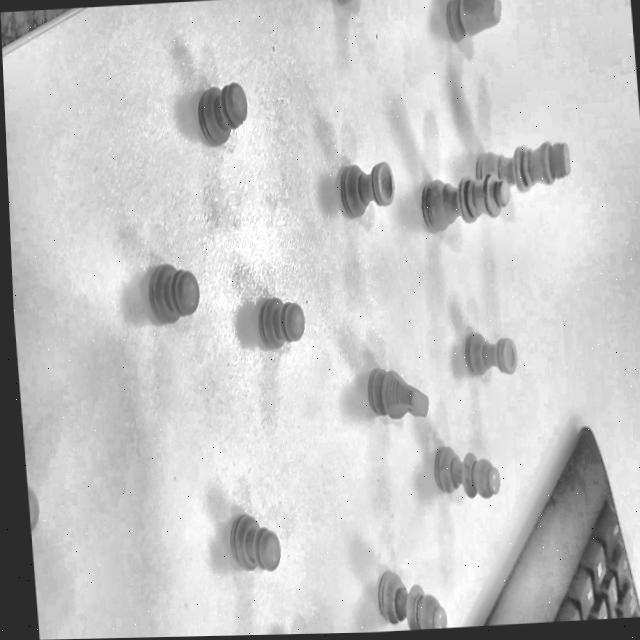white-bishop: (377, 566, 448, 631), (432, 441, 502, 501)
white-king: (473, 139, 573, 192)
white-knight: (364, 363, 431, 420), (443, 0, 504, 40)
white-pawn: (195, 79, 251, 146), (226, 510, 283, 574), (146, 260, 203, 324), (256, 293, 308, 349), (25, 459, 45, 550)
white-queen: (420, 163, 520, 240)
white-rook: (338, 158, 398, 217), (463, 328, 519, 377)
